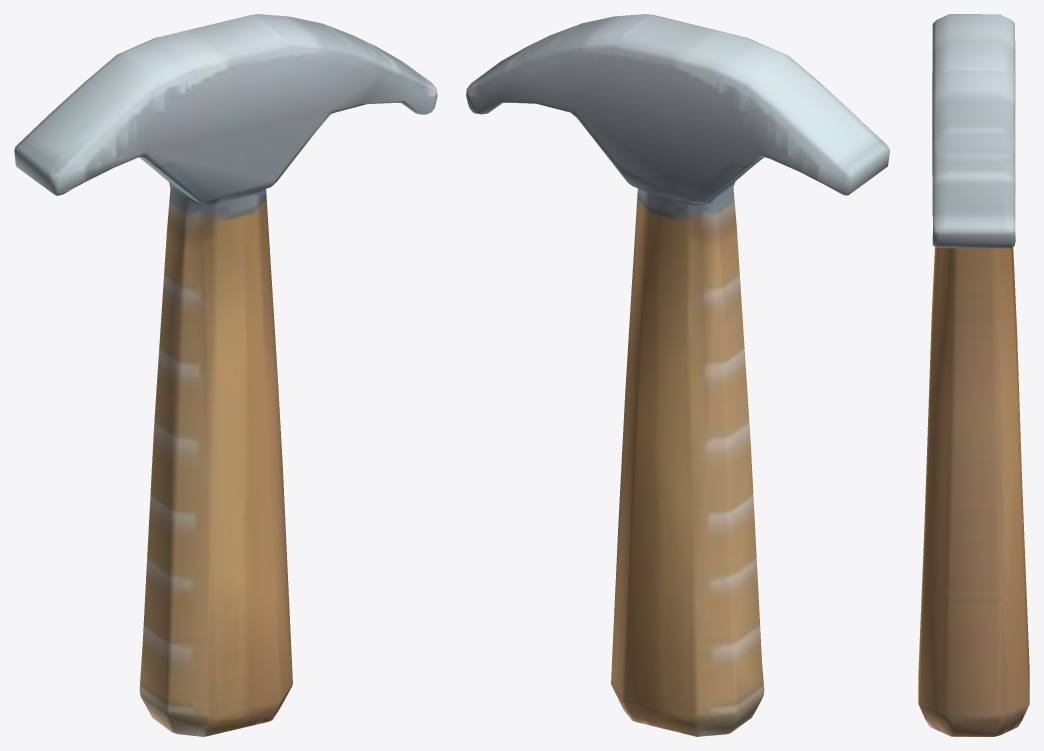
3 views of the same model, side by side, from view 1: azimuth 30°, elevation 25°; view 2: azimuth 150°, elevation 25°; view 3: azimuth 270°, elevation 25° (orthographic).
Parts seen in each view (by area): view 1: hammer; view 2: hammer; view 3: hammer.
Part boxes in pixels (box(x1,y1,x2,y2)): hammer: box(14, 14, 437, 736); hammer: box(466, 14, 889, 736); hammer: box(918, 14, 1029, 736).
Size of the model in its own units: 0.1973 by 0.3297 by 0.0499.
Materials: 1 (1 with a texture image).
